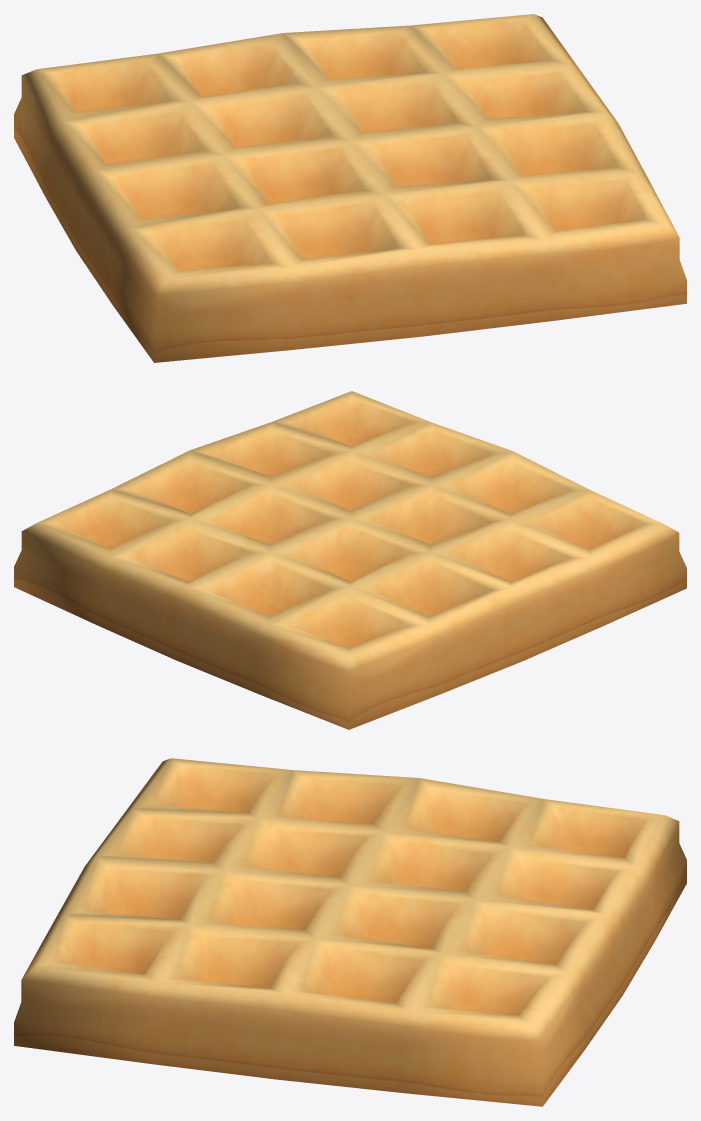
Rendered from Waffle.fbx.
3 renders of one model, top to bottom at view 1: azimuth 30°, elevation 25°; view 2: azimuth 150°, elevation 25°; view 3: azimuth 270°, elevation 25°, orthographic. The views are drawn at different scales.
Visible parts, largest first — view 1: Waffle_1; view 2: Waffle_1; view 3: Waffle_1.
Part boxes in pixels (bbox=[...]): Waffle_1: bbox=[14, 14, 686, 362]; Waffle_1: bbox=[14, 391, 686, 729]; Waffle_1: bbox=[14, 758, 686, 1106].
Size of the model in its own units: 56.36 by 7.32 by 56.36.
